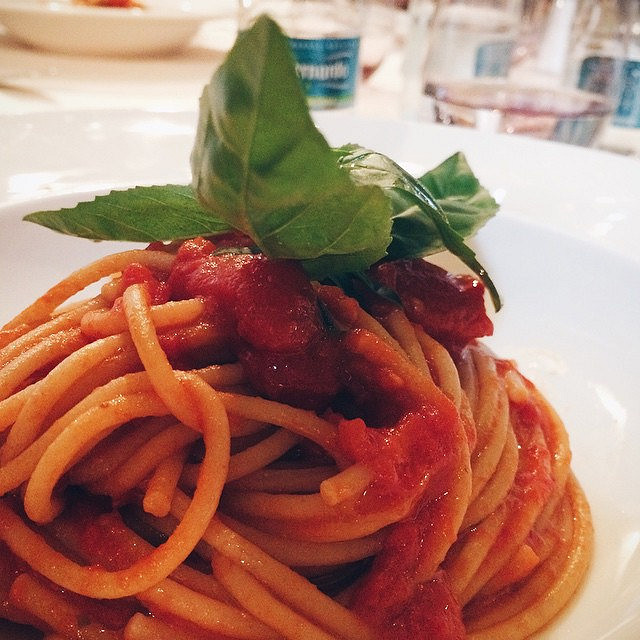plain spaghetti: (18, 303, 573, 612)
